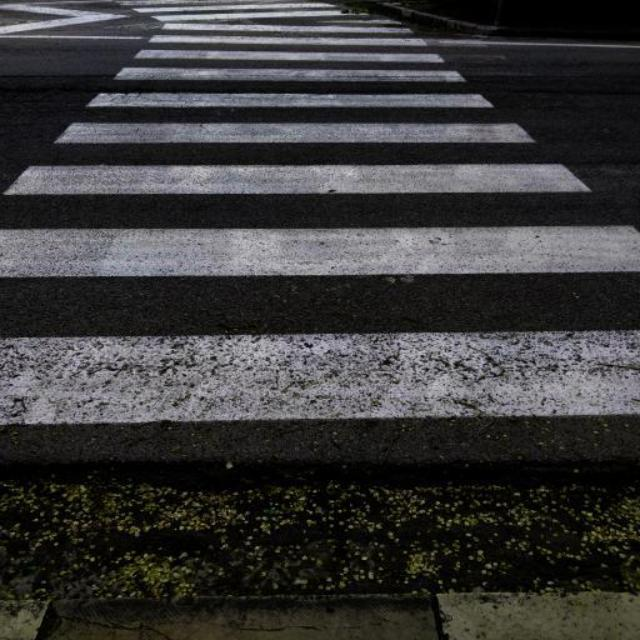sidewalk: (0, 0, 640, 455)
